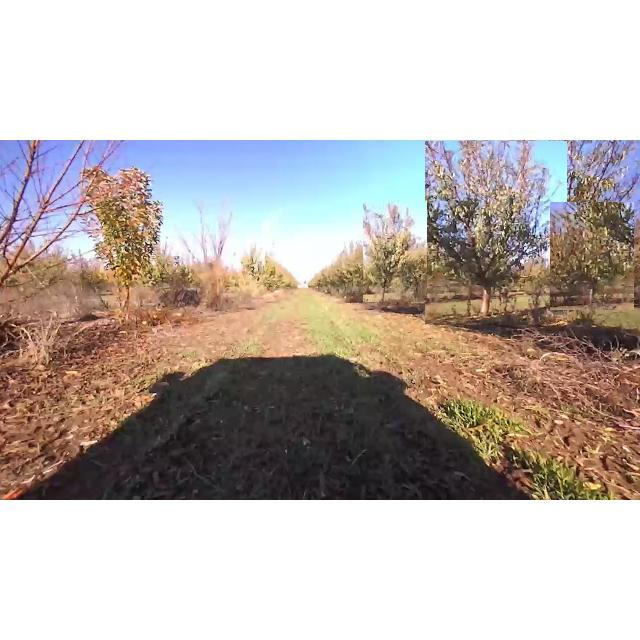direk: (425, 141, 567, 325), (0, 141, 134, 327), (73, 169, 163, 317), (550, 202, 634, 310), (363, 202, 427, 302), (182, 194, 240, 298), (347, 246, 391, 298)
